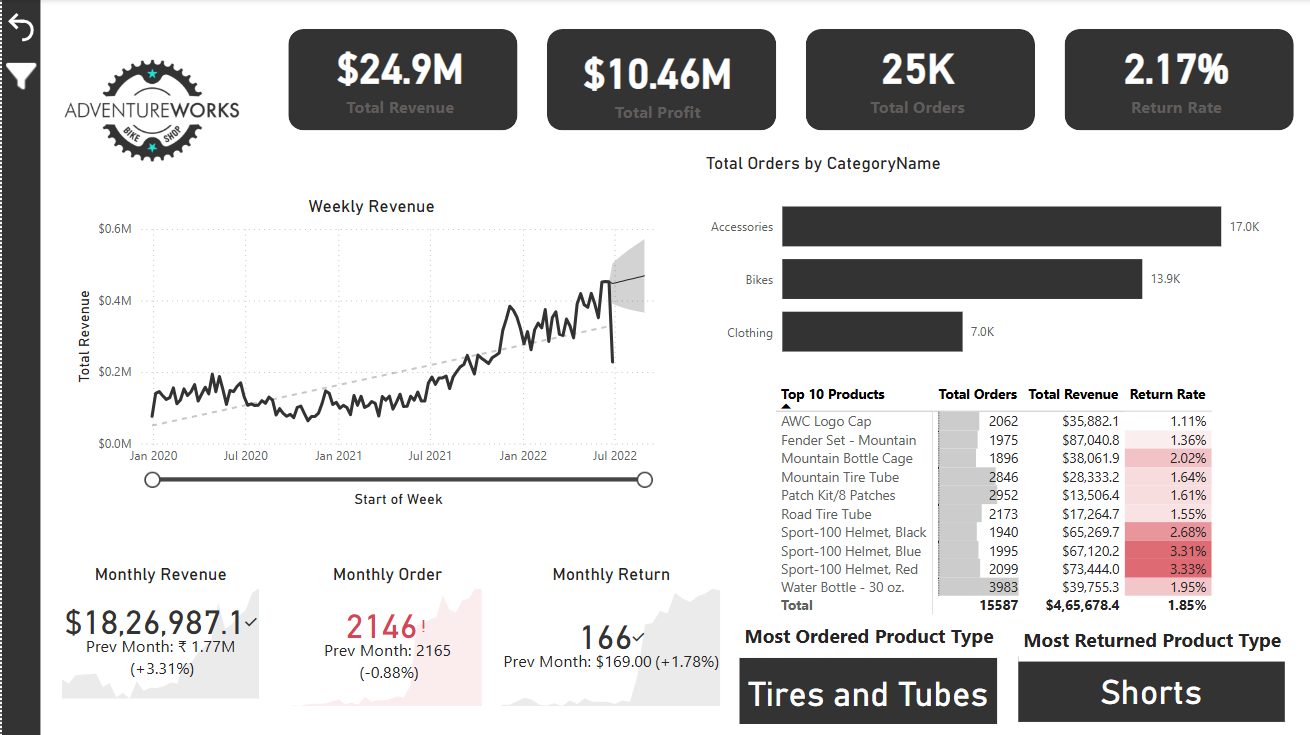

The dashboard page shown, as its layout file describes it:
{"tool":"powerbi","page":{"name":"Exec Dashboard","canvas":[1280,720],"ordinal":0},"visuals":[{"type":"image","title":"AW LOGO","box":[38.1,0,218.6,218.6],"z":0},{"type":"card","fields":{"Values":["Measure Table.Total Revenue"]},"box":[280.2,21.6,219.3,106.8],"z":0,"group":"g2"},{"type":"group","id":"g1","title":"KPI Backgrounds","box":[279.6,28.8,984.5,99.6],"z":0,"group":"g3"},{"type":"shape","box":[279.6,28.8,225.1,99.6],"z":0,"group":"g1"},{"type":"shape","title":"Left Navigation Background","box":[0,0,37.9,720.2],"z":1000},{"type":"group","id":"g2","title":"KPI Values","box":[280.2,21.6,978.2,111.1],"z":1000,"group":"g3"},{"type":"card","fields":{"Values":["Measure Table.Total Profit"]},"box":[532.7,25.9,219.3,106.8],"z":1000,"group":"g2"},{"type":"shape","box":[785.9,28.8,225.1,99.6],"z":1000,"group":"g1"},{"type":"group","id":"g3","title":"KPIs","box":[279.6,21.6,983.8,110.6],"z":2000},{"type":"card","fields":{"Values":["Measure Table.Total Orders"]},"box":[786.6,21.6,219.3,106.8],"z":2000,"group":"g2"},{"type":"shape","box":[532.8,28.8,225.1,99.6],"z":2000,"group":"g1"},{"type":"card","fields":{"Values":["Measure Table.Return Rate"]},"box":[1039.1,21.6,219.3,106.8],"z":3000,"group":"g2"},{"type":"shape","box":[1039.1,28.8,225.1,99.6],"z":3000,"group":"g1"},{"type":"lineChart","title":"Weekly Revenue","fields":{"Y":["Measure Table.Total Revenue"],"Category":["Calendar Lookup.Start of Week"]},"box":[67.4,191.9,588.5,310.1],"z":3000},{"type":"kpi","title":"Monthly Order","fields":{"TrendLine":["Calendar Lookup.Start of Month"],"Indicator":["Measure Table.Total Orders"],"Goal":["Measure Table.Previous Month Orders"]},"box":[280,552.7,194.4,144.3],"z":4000},{"type":"kpi","title":"Monthly Return","fields":{"TrendLine":["Calendar Lookup.Start of Month"],"Indicator":["Measure Table.Total Return"],"Goal":["Measure Table.Previous Month Returns"]},"box":[484.2,552.7,223.8,144.3],"z":5000},{"type":"kpi","title":"Monthly Revenue","fields":{"Indicator":["Measure Table.Total Revenue"],"TrendLine":["Calendar Lookup.Start of Month"],"Goal":["Measure Table.Previous Month Revenue"]},"box":[53.8,552.7,203,137],"z":6000},{"type":"clusteredBarChart","fields":{"Category":["Product Categories Lookup.CategoryName"],"Y":["Measure Table.Total Orders"]},"box":[683.9,150,554.2,222.4],"z":7000},{"type":"pivotTable","fields":{"Rows":["Product Lookup.ProductName"],"Values":["Measure Table.Total Orders","Measure Table.Total Revenue","Measure Table.Return Rate"]},"box":[752.6,371.4,480.3,239.2],"z":8000},{"type":"card","fields":{"Values":["Min(Product Subcategories Lookup.SubcategoryName)"]},"box":[722,644.4,251.7,64.8],"z":9000},{"type":"textbox","box":[721.5,604.8,283.9,38.9],"z":10000},{"type":"card","fields":{"Values":["Min(Product Subcategories Lookup.SubcategoryName)"]},"box":[993.8,643.7,260.6,64.2],"z":11000},{"type":"textbox","box":[993.8,608.7,283.9,38.9],"z":12000},{"type":"actionButton","box":[0,8.6,37.9,37.9],"z":13000},{"type":"actionButton","box":[0,55,37.9,40.4],"z":14000}]}

Visuals, with their boxes in screenshot pixels (x1, y1, x2, y2), scaled from the page's 1280x720 canvas onto the 1310x735 screenshot:
"AW LOGO" image: Rect(39, 0, 263, 223)
card - Measure Table.Total Revenue: Rect(287, 22, 511, 131)
"KPI Backgrounds" group: Rect(286, 29, 1294, 131)
shape: Rect(286, 29, 517, 131)
"Left Navigation Background" shape: Rect(0, 0, 39, 734)
"KPI Values" group: Rect(287, 22, 1288, 135)
card - Measure Table.Total Profit: Rect(545, 26, 770, 135)
shape: Rect(804, 29, 1035, 131)
"KPIs" group: Rect(286, 22, 1293, 135)
card - Measure Table.Total Orders: Rect(805, 22, 1029, 131)
shape: Rect(545, 29, 776, 131)
card - Measure Table.Return Rate: Rect(1063, 22, 1288, 131)
shape: Rect(1063, 29, 1294, 131)
"Weekly Revenue" lineChart: Rect(69, 196, 671, 512)
"Monthly Order" kpi: Rect(287, 564, 486, 712)
"Monthly Return" kpi: Rect(496, 564, 725, 712)
"Monthly Revenue" kpi: Rect(55, 564, 263, 704)
clusteredBarChart - Product Categories Lookup.CategoryName x Measure Table.Total Orders: Rect(700, 153, 1267, 380)
pivotTable - Product Lookup.ProductName x Measure Table.Total Orders: Rect(770, 379, 1262, 623)
card - Min(Product Subcategories Lookup.SubcategoryName): Rect(739, 658, 997, 724)
textbox: Rect(738, 617, 1029, 657)
card - Min(Product Subcategories Lookup.SubcategoryName): Rect(1017, 657, 1284, 723)
textbox: Rect(1017, 621, 1308, 661)
actionButton: Rect(0, 9, 39, 47)
actionButton: Rect(0, 56, 39, 97)
